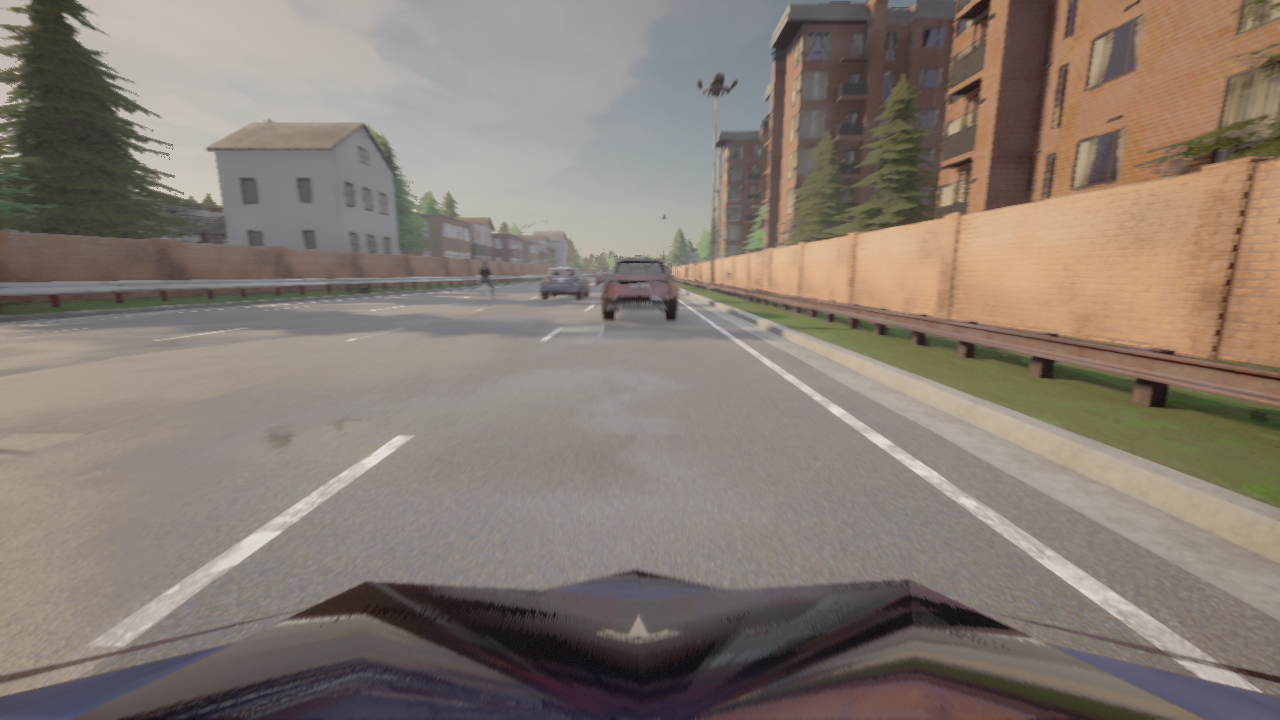cyclist: (0, 569, 1279, 719), (602, 257, 677, 320), (541, 267, 589, 299), (596, 270, 611, 284), (481, 278, 490, 300)
